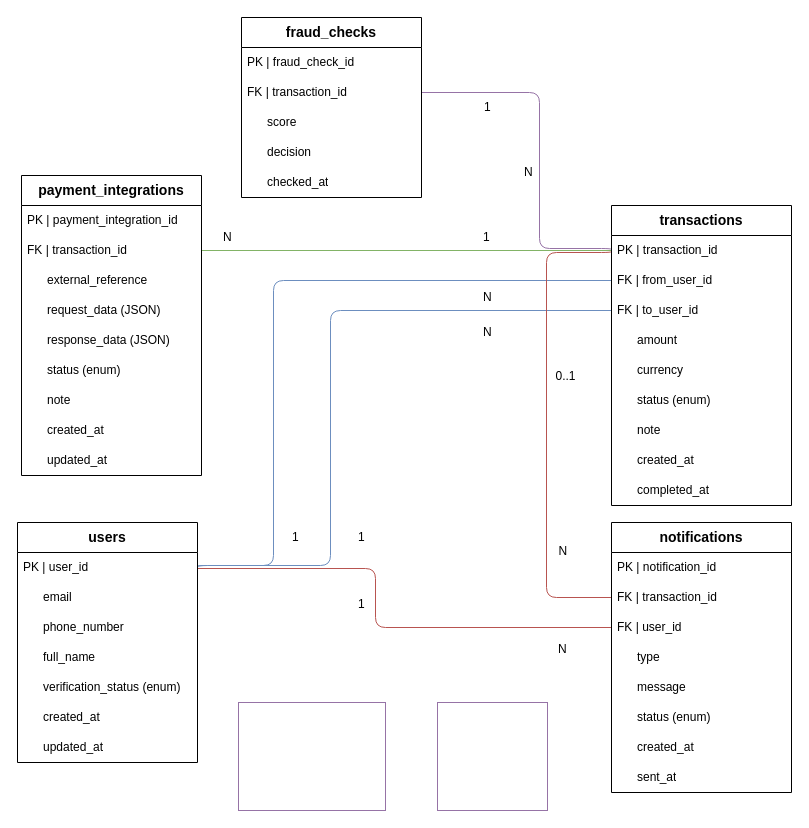
Image size: 809x828. Some labels were removed from this diagram. The centre of each missing label's shape, as x and y in pixels:
"enum(TxStatus) PENDING APPROVED DECLINED FAILED" belongs at [492,756].
"enum(VerificationStatus) UNVERIFIED PENDING APPROVED REJECTED" belongs at [312,756].
